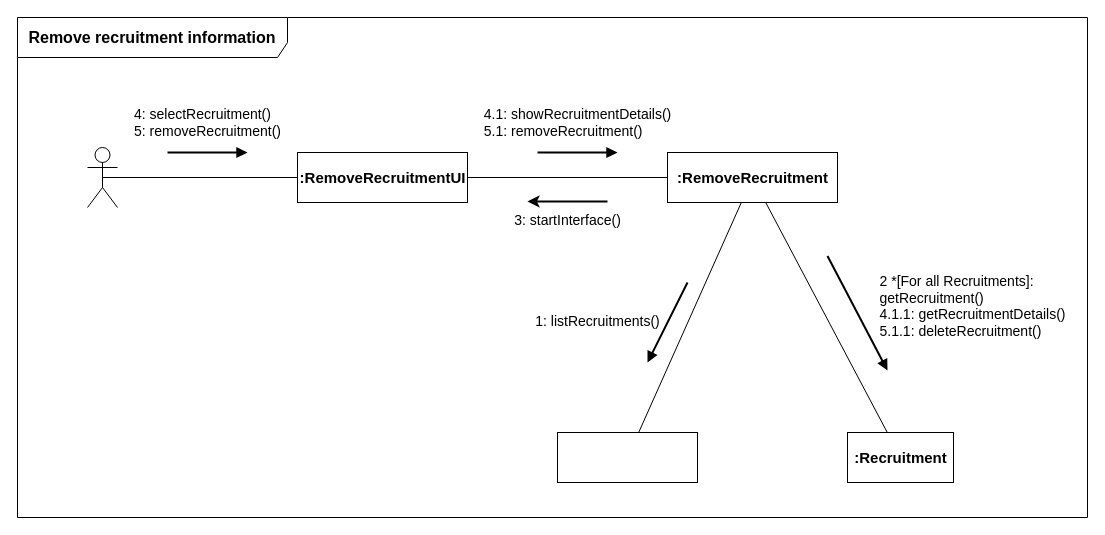
Image size: 1105x535. Some labels were removed from this diagram. The shapes that lost their labels are listed below. From the top down, each one's centre as x and y in pixels, then its label:
At point 102,177: "CompanyMember".
At point 627,457: ":CompanyMember".
